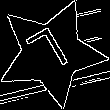L_SE: (25, 23, 78, 83)
